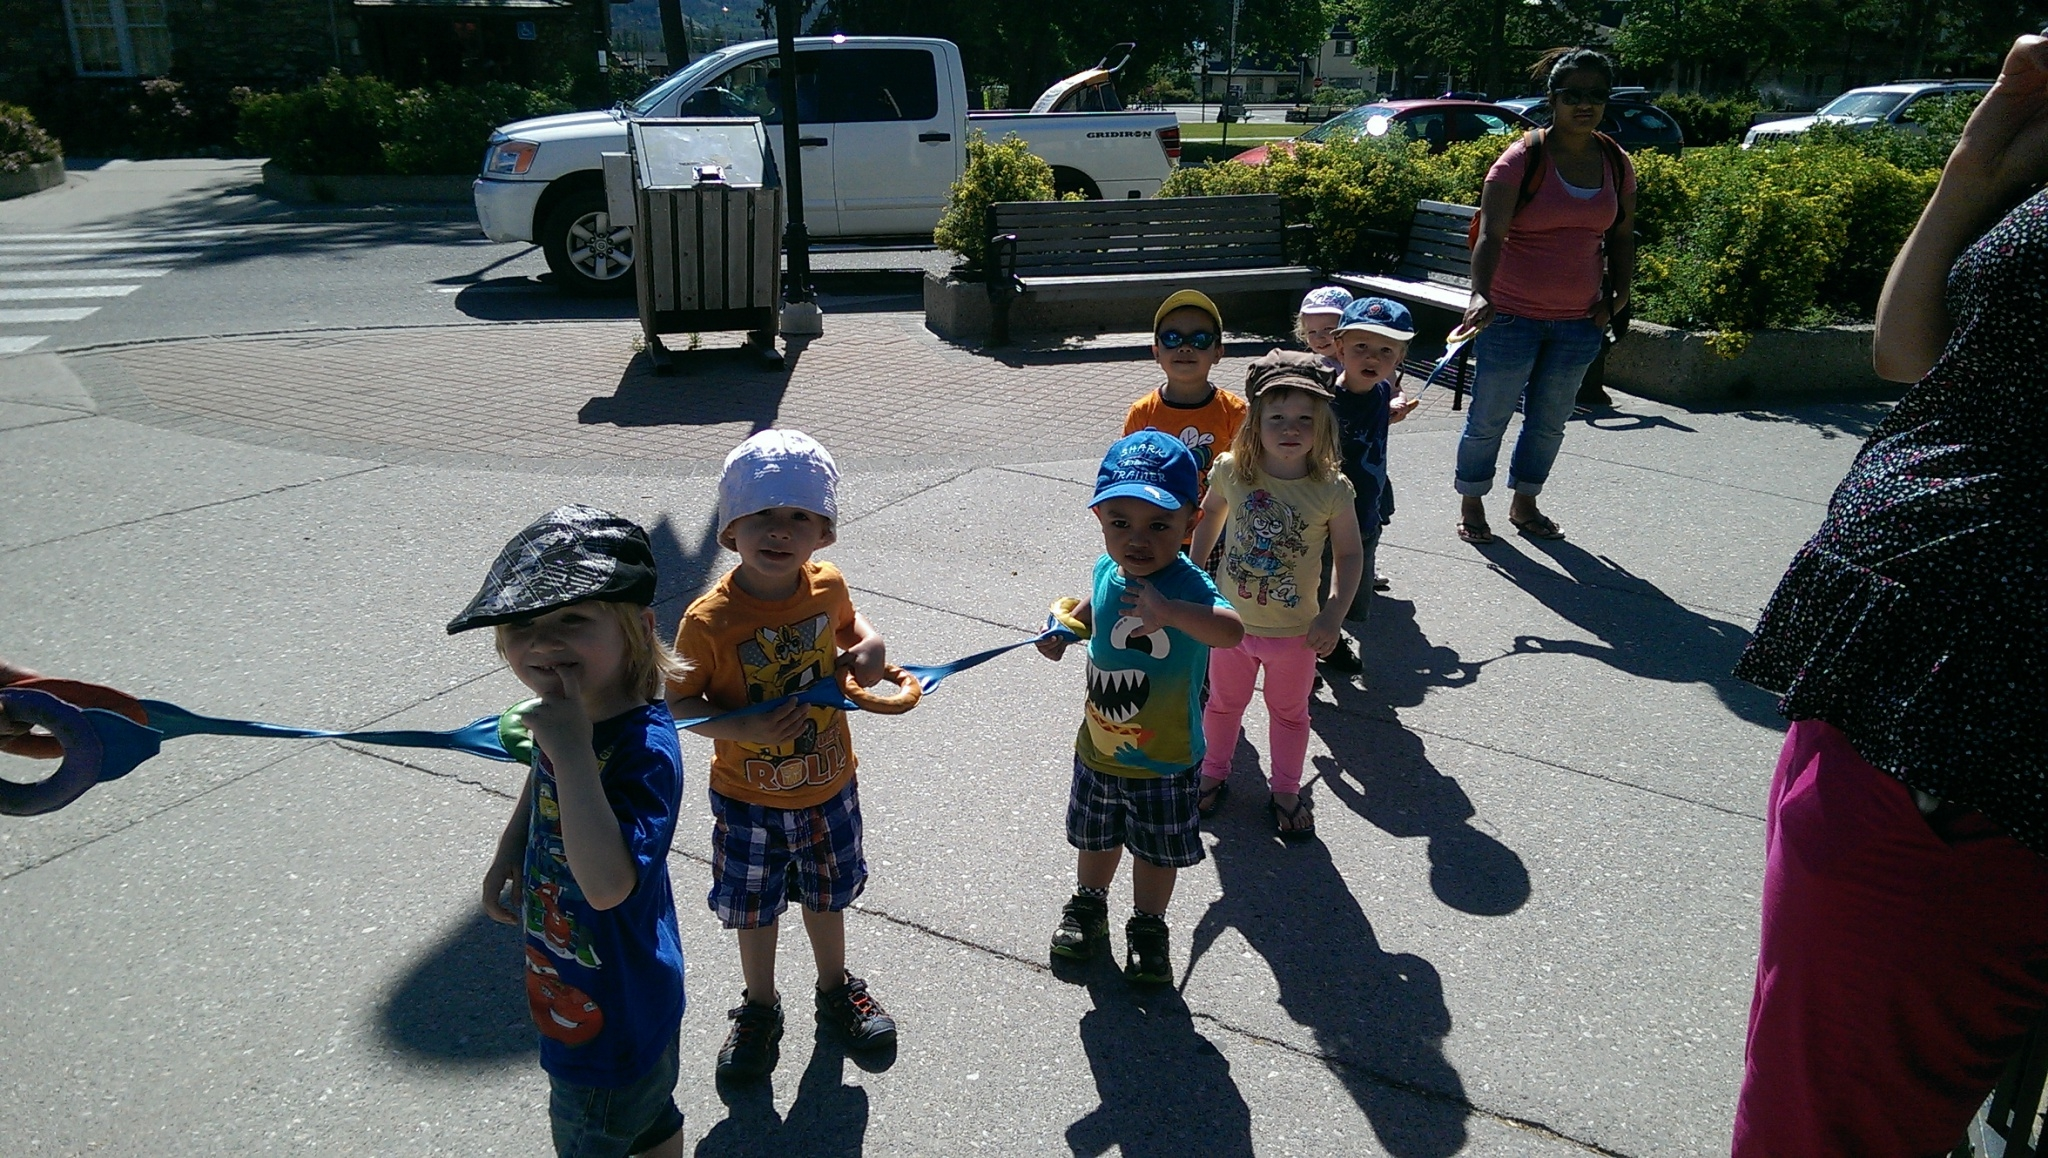people: (1763, 27, 2048, 1158), (452, 501, 696, 1158), (681, 433, 910, 1077), (1052, 424, 1222, 980), (1469, 45, 1613, 557), (1219, 354, 1349, 827), (1140, 292, 1257, 530), (1340, 280, 1413, 610), (1281, 274, 1343, 374)
